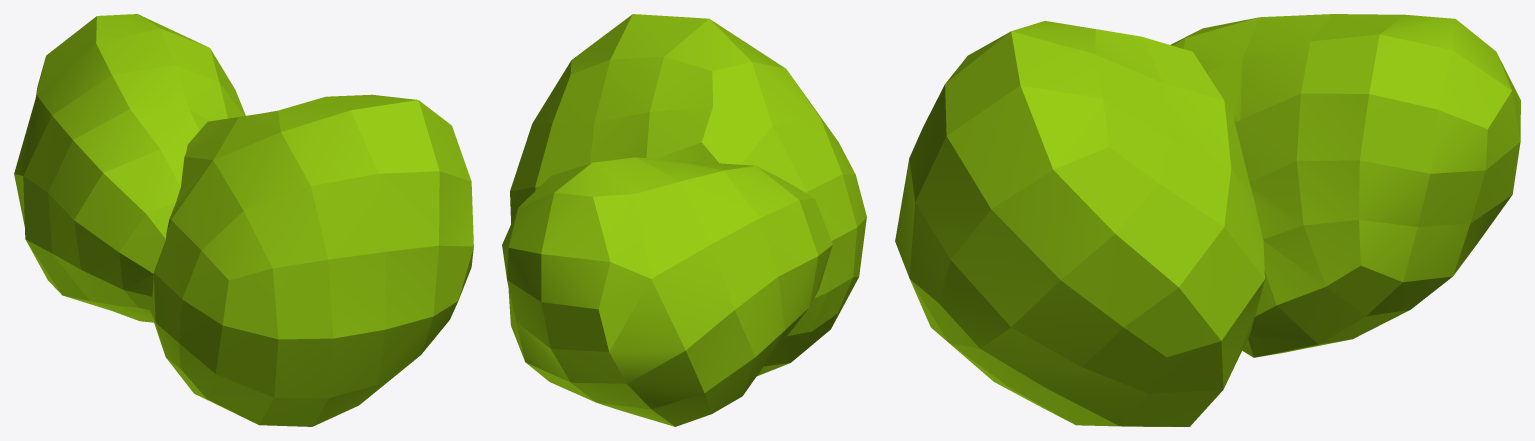
The model's file is tree_big_1_round.fbx.
3 renders of one model, left to right at view 1: azimuth 30°, elevation 25°; view 2: azimuth 150°, elevation 25°; view 3: azimuth 270°, elevation 25°, orthographic. The views are drawn at different scales.
Visible parts, largest first — view 1: tree_big_1_round; view 2: tree_big_1_round; view 3: tree_big_1_round.
Boxes of the visible parts, x1,y1,x2,y2 form: tree_big_1_round: [14, 14, 473, 426]; tree_big_1_round: [502, 14, 866, 426]; tree_big_1_round: [895, 14, 1520, 426].
Size of the model in its own units: 116 by 111 by 159.
